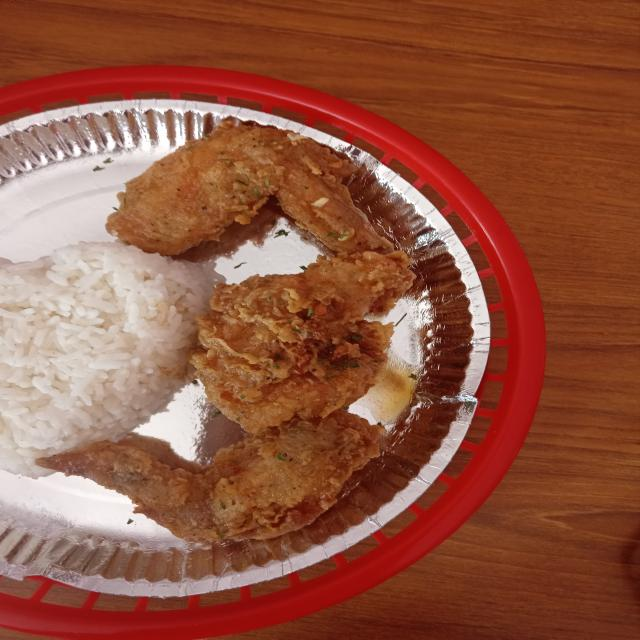Chicken -Fried Chicken-: (98, 124, 434, 262), (147, 412, 422, 554), (196, 265, 401, 426), (0, 238, 150, 456)
